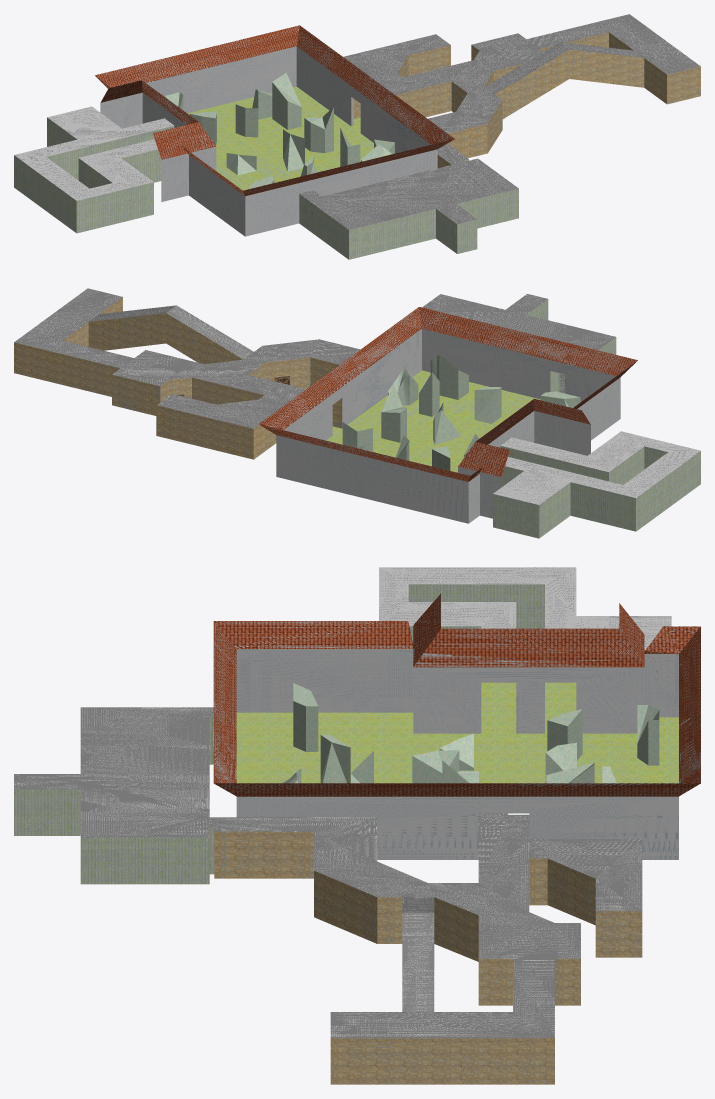
File: shabby.dae
3 renders of one model, top to bottom at view 1: azimuth 30°, elevation 25°; view 2: azimuth 150°, elevation 25°; view 3: azimuth 270°, elevation 25°, orthographic. The views are drawn at different scales.
Parts seen in each view (by area): view 1: group_0 (×20); view 2: group_0 (×21); view 3: group_0 (×16).
Part boxes in pixels (x1,y1,x2,y2): group_0 (×20): (14,14,700,259); group_0 (×21): (14,288,700,538); group_0 (×16): (14,567,700,1084).
Bounding box in the file's own units: 926 × 576 × 90.94.
